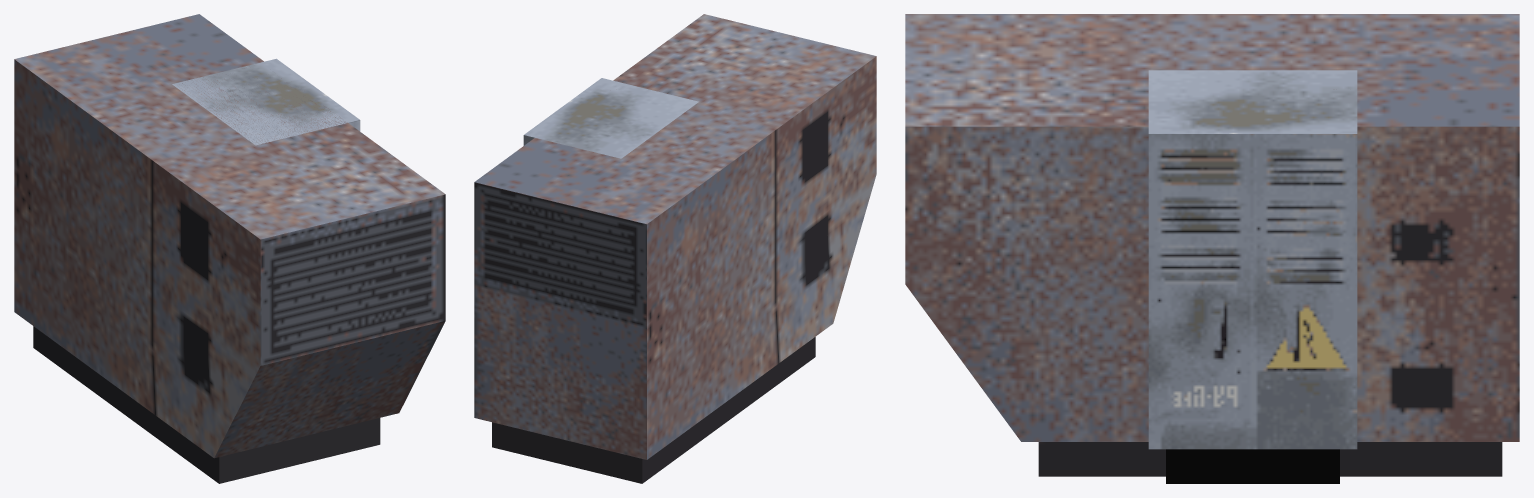
The model's file is Transformer.glb.
The picture shows the model from 3 angles, left to right: view 1: azimuth 30°, elevation 25°; view 2: azimuth 150°, elevation 25°; view 3: azimuth 270°, elevation 25°; orthographic projection. The views are drawn at different scales.
Parts seen in each view (by area): view 1: Generator, Transformer; view 2: Generator, Transformer; view 3: Generator, Transformer.
Part boxes in pixels (<box>): Generator: <box>14,14,445,483</box>; Transformer: <box>172,58,360,145</box>; Generator: <box>474,14,876,483</box>; Transformer: <box>523,78,698,158</box>; Generator: <box>905,14,1519,476</box>; Transformer: <box>1148,70,1357,483</box>.
Bounding box in the file's own units: 1.21 × 1.67 × 2.61.
2 materials, 2 textured.
